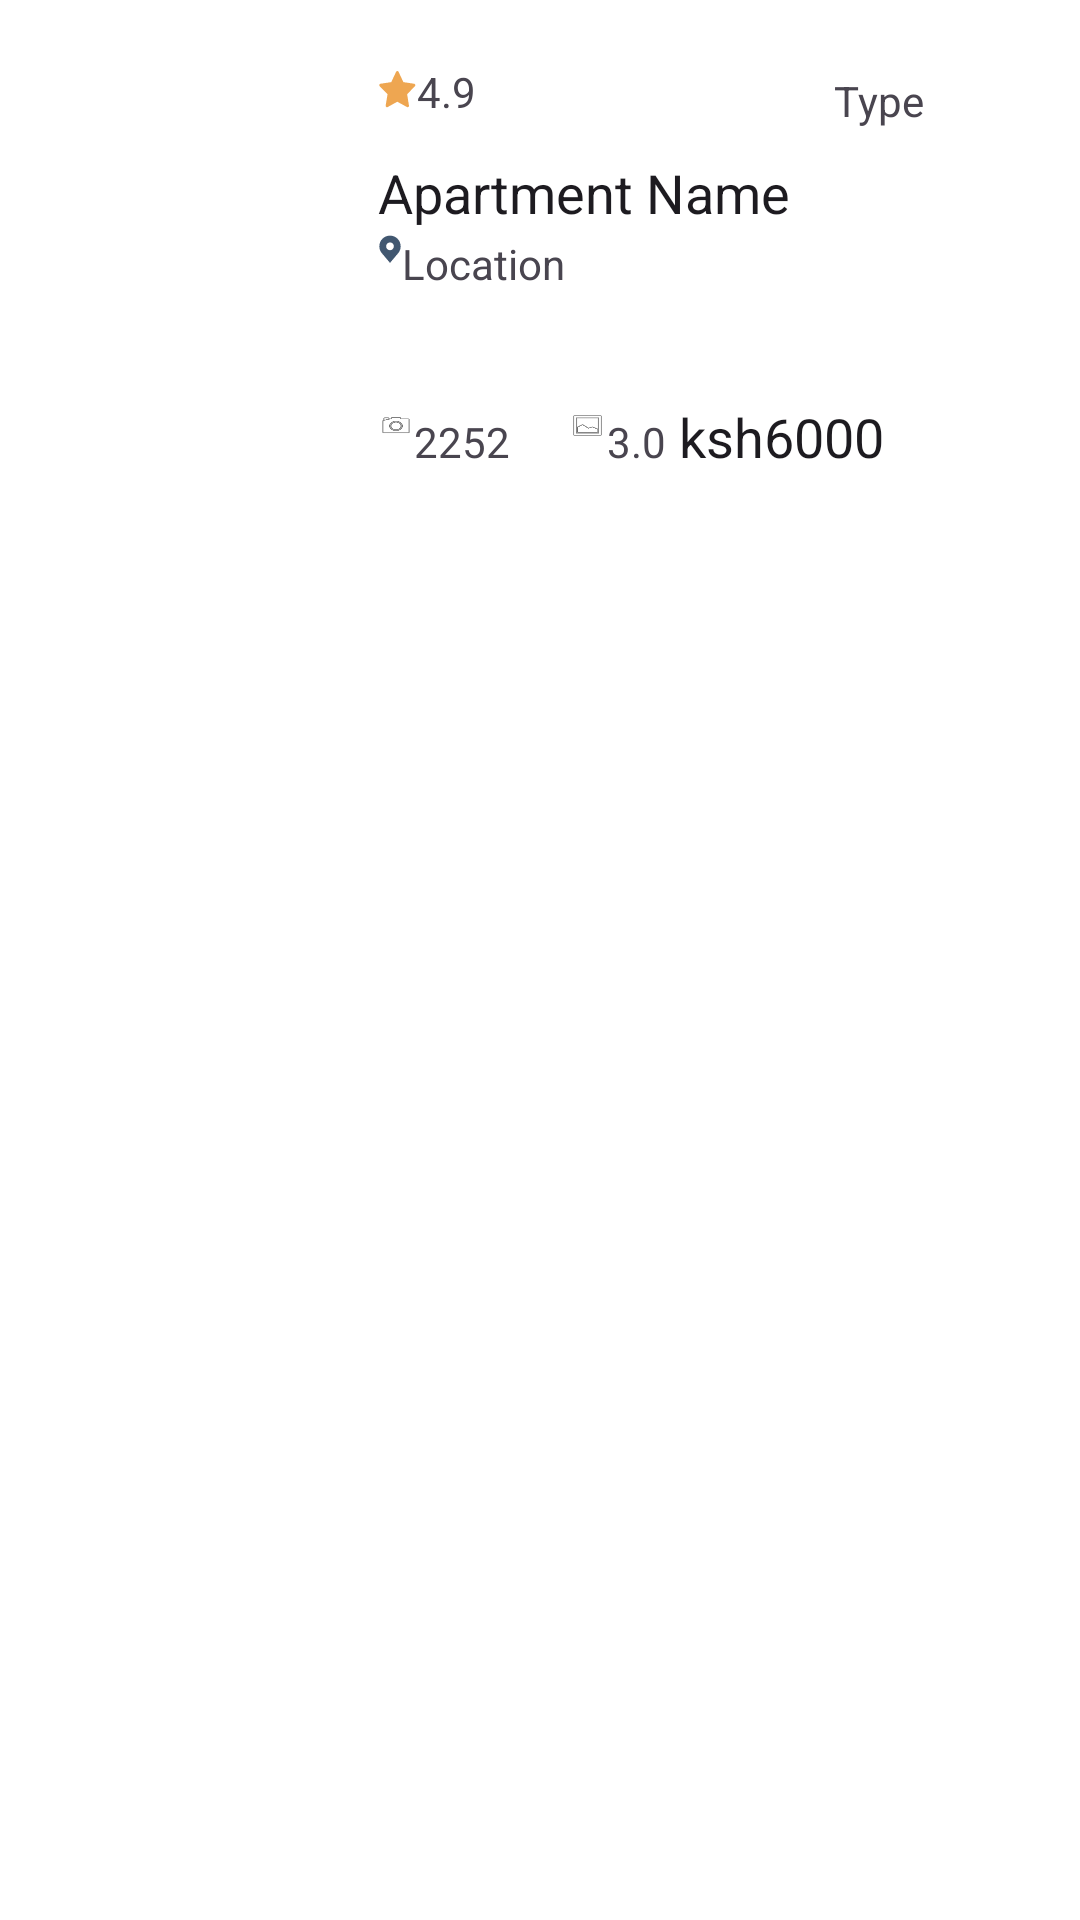

Named icons in this screenshot (1080×1920) and their centers, (x,y):
camera: (396,425)
gallery: (587,425)
rating: (397,89)
